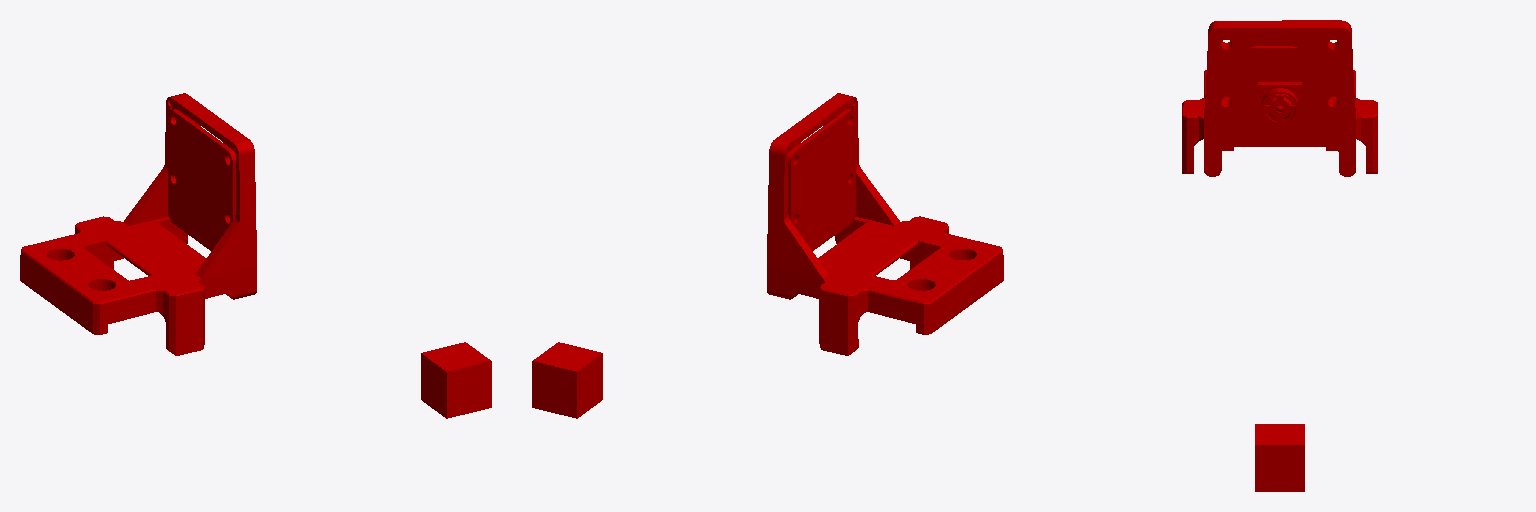
URDF robot description (open_manipulator):
<?xml version="1.0" ?>
<!-- =================================================================================== -->
<!-- |    This document was autogenerated by xacro from [local-path]/catkin_ws/src/open_manipulator/open_manipulator_description/urdf/open_manipulator_robot.urdf.xacro | -->
<!-- |    EDITING THIS FILE BY HAND IS NOT RECOMMENDED                                 | -->
<!-- =================================================================================== -->
<!-- Open_Manipulator Chain -->
<robot name="open_manipulator">
    <material name="black">
        <color rgba="0.0 0.0 0.0 1.0" />
    </material>
    <material name="white">
        <color rgba="1.0 1.0 1.0 1.0" />
    </material>
    <material name="red">
        <color rgba="0.8 0.0 0.0 1.0" />
    </material>
    <material name="blue">
        <color rgba="0.0 0.0 0.8 1.0" />
    </material>
    <material name="green">
        <color rgba="0.0 0.8 0.0 1.0" />
    </material>
    <material name="grey">
        <color rgba="0.5 0.5 0.5 1.0" />
    </material>
    <material name="orange">
        <color rgba="1.0 0.4235294117647059 0.0392156862745098 1.0" />
    </material>
    <material name="brown">
        <color rgba="0.8705882352941177 0.8117647058823529 0.7647058823529411 1.0" />
    </material>
    <!-- World -->
    <gazebo reference="world">
        <plugin name="gazebo_ros_control" filename="libgazebo_ros_control.so">
            <robotNamespace>/</robotNamespace>
        </plugin>
    </gazebo>
    <!-- Link1 -->
    <RefLink ref="link1" />
    <!-- Link2 -->
    <RefLink ref="link2" />
    <!-- Link3 -->
    <RefLink ref="link3" />
    <!-- Link4 -->
    <RefLink ref="link4" />
    <!-- Link5 -->
    <RefLink ref="link5" />
    <!-- gripper_link -->
    <RefLink ref="gripper_link" />
    <!-- gripper_link_sub -->
    <RefLink ref="gripper_link_sub" />
    <!-- end effector link -->
    <gazebo reference="end_effector_link">
        <material>Gazebo/Red</material>
    </gazebo>
    <!-- ros_control plugin -->
    <gazebo>
        <plugin filename="libgazebo_ros_control.so" name="gazebo_ros_control">
            <controlPeriod>0.001</controlPeriod>
            <robotSimType>gazebo_ros_control/DefaultRobotHWSim</robotSimType>
            <legacyModeNS>true</legacyModeNS>
        </plugin>
    </gazebo>
    <gazebo>
        <!-- loading plugin: mimic joints works in gazebo now -->
        <plugin filename="libroboticsgroup_gazebo_mimic_joint_plugin.so" name="gazebo_gripper_ros_control">
            <joint>gripper</joint>
            <mimicJoint>gripper_sub</mimicJoint>
            <multiplier>1.0</multiplier>
            <offset>0.0</offset>
        </plugin>
    </gazebo>
    <!-- camera -->
    <gazebo reference="camera_link">
        <sensor name="intel_realsense_r200" type="camera">
            <update_rate>30.0</update_rate>
            <camera name="head">
                <horizontal_fov>1.02974</horizontal_fov>
                <image>
                    <width>1920</width>
                    <height>1080</height>
                    <format>R8G8B8</format>
                </image>
                <clip>
                    <near>0.02</near>
                    <far>300</far>
                </clip>
                <noise>
                    <type>gaussian</type>
                    <!-- Noise is sampled independently per pixel on each frame.
               That pixel's noise value is added to each of its color
               channels, which at that point lie in the range [0,1]. -->
                    <mean>0.0</mean>
                    <stddev>0.007</stddev>
                </noise>
            </camera>
            <plugin filename="libgazebo_ros_camera.so" name="camera_controller">
                <alwaysOn>true</alwaysOn>
                <updateRate>0.0</updateRate>
                <cameraName>camera/color</cameraName>
                <imageTopicName>image_raw</imageTopicName>
                <cameraInfoTopicName>camera_info</cameraInfoTopicName>
                <frameName>camera_link</frameName>
                <hackBaseline>0.07</hackBaseline>
                <distortionK1>0.0</distortionK1>
                <distortionK2>0.0</distortionK2>
                <distortionK3>0.0</distortionK3>
                <distortionT1>0.0</distortionT1>
                <distortionT2>0.0</distortionT2>
            </plugin>
        </sensor>
    </gazebo>
    <transmission name="tran1">
        <type>transmission_interface/SimpleTransmission</type>
        <joint name="joint1">
            <hardwareInterface>hardware_interface/PositionJointInterface</hardwareInterface>
        </joint>
        <actuator name="motor1">
            <mechanicalReduction>1</mechanicalReduction>
            <hardwareInterface>hardware_interface/EffortJointInterface</hardwareInterface>
        </actuator>
    </transmission>
    <transmission name="tran2">
        <type>transmission_interface/SimpleTransmission</type>
        <joint name="joint2">
            <hardwareInterface>hardware_interface/PositionJointInterface</hardwareInterface>
        </joint>
        <actuator name="motor2">
            <mechanicalReduction>1</mechanicalReduction>
            <hardwareInterface>hardware_interface/EffortJointInterface</hardwareInterface>
        </actuator>
    </transmission>
    <transmission name="tran3">
        <type>transmission_interface/SimpleTransmission</type>
        <joint name="joint3">
            <hardwareInterface>hardware_interface/PositionJointInterface</hardwareInterface>
        </joint>
        <actuator name="motor3">
            <mechanicalReduction>1</mechanicalReduction>
            <hardwareInterface>hardware_interface/EffortJointInterface</hardwareInterface>
        </actuator>
    </transmission>
    <transmission name="tran4">
        <type>transmission_interface/SimpleTransmission</type>
        <joint name="joint4">
            <hardwareInterface>hardware_interface/PositionJointInterface</hardwareInterface>
        </joint>
        <actuator name="motor4">
            <mechanicalReduction>1</mechanicalReduction>
            <hardwareInterface>hardware_interface/EffortJointInterface</hardwareInterface>
        </actuator>
    </transmission>
    <transmission name="tran5">
        <type>transmission_interface/SimpleTransmission</type>
        <joint name="gripper">
            <hardwareInterface>hardware_interface/EffortJointInterface</hardwareInterface>
        </joint>
        <actuator name="motor5">
            <mechanicalReduction>1</mechanicalReduction>
            <hardwareInterface>hardware_interface/EffortJointInterface</hardwareInterface>
        </actuator>
    </transmission>
    <transmission name="tran6">
        <type>transmission_interface/SimpleTransmission</type>
        <joint name="gripper_sub">
            <hardwareInterface>hardware_interface/EffortJointInterface</hardwareInterface>
        </joint>
        <actuator name="motor6">
            <mechanicalReduction>1</mechanicalReduction>
            <hardwareInterface>hardware_interface/EffortJointInterface</hardwareInterface>
        </actuator>
    </transmission>
    <!-- Link 1 -->
    <link name="link1">
        <visual>
            <origin rpy="0 0 0" xyz="0 0 0" />
            <geometry>
                <mesh filename="package://open_manipulator_description/meshes/chain_link1.stl" scale="0.001 0.001 0.001" />
            </geometry>
            <material name="grey" />
        </visual>
        <collision>
            <origin rpy="0 0 0" xyz="0 0 0" />
            <geometry>
                <mesh filename="package://open_manipulator_description/meshes/chain_link1.stl" scale="0.001 0.001 0.001" />
            </geometry>
        </collision>
        <inertial>
            <origin xyz="3.0876154e-04 0.0000000e+00 -1.2176461e-04" rpy="0 0 0" />
            <mass value="7.9119962e-02" />
            <inertia ixx="1.2505234e-05" ixy="0.0" ixz="-1.7855208e-07" iyy="2.1898364e-05" iyz="0.0" izz="1.9267361e-05" />
        </inertial>
    </link>
    <!-- Joint 1 -->
    <joint name="joint1" type="revolute">
        <parent link="link1" />
        <child link="link2" />
        <origin rpy="0 0 0" xyz="0.012 0.0 0.017" />
        <axis xyz="0 0 1" />
        <limit effort="1" lower="-2.827433388230814" upper="2.827433388230814" velocity="4.8" />
    </joint>
    <!--  Link 2 -->
    <link name="link2">
        <visual>
            <origin rpy="0 0 0" xyz="0 0 0.019" />
            <geometry>
                <mesh filename="package://open_manipulator_description/meshes/chain_link2.stl" scale="0.001 0.001 0.001" />
            </geometry>
            <material name="grey" />
        </visual>
        <collision>
            <origin rpy="0 0 0" xyz="0 0 0.019" />
            <geometry>
                <mesh filename="package://open_manipulator_description/meshes/chain_link2.stl" scale="0.001 0.001 0.001" />
            </geometry>
        </collision>
        <inertial>
            <origin xyz="-3.0184870e-04 5.4043684e-04 0.047433463999999995" rpy="0 0 0" />
            <mass value="9.8406837e-02" />
            <inertia ixx="3.4543422e-05" ixy="-1.6031095e-08" ixz="-3.8375155e-07" iyy="3.2689329e-05" iyz="2.8511935e-08" izz="1.8850320e-05" />
        </inertial>
    </link>
    <!--  Joint 2 -->
    <joint name="joint2" type="revolute">
        <parent link="link2" />
        <child link="link3" />
        <origin rpy="0 0 0" xyz="0.0 0.0 0.0595" />
        <axis xyz="0 1 0" />
        <limit effort="1" lower="-1.790707812546182" upper="1.5707963267948966" velocity="4.8" />
    </joint>
    <!--  Link 3 -->
    <link name="link3">
        <visual>
            <origin rpy="0 0 0" xyz="0 0 0" />
            <geometry>
                <mesh filename="package://open_manipulator_description/meshes/chain_link3.stl" scale="0.001 0.001 0.001" />
            </geometry>
            <material name="grey" />
        </visual>
        <collision>
            <origin rpy="0 0 0" xyz="0 0 0" />
            <geometry>
                <mesh filename="package://open_manipulator_description/meshes/chain_link3.stl" scale="0.001 0.001 0.001" />
            </geometry>
        </collision>
        <inertial>
            <origin xyz="1.0308393e-02 3.7743363e-04 1.0170197e-01" rpy="0 0 0" />
            <mass value="1.3850917e-01" />
            <inertia ixx="3.3055381e-04" ixy="-9.7940978e-08" ixz="-3.8505711e-05" iyy="3.4290447e-04" iyz="-1.5717516e-06" izz="6.0346498e-05" />
        </inertial>
    </link>
    <!--  Joint 3 -->
    <joint name="joint3" type="revolute">
        <parent link="link3" />
        <child link="link4" />
        <origin rpy="0 0 0" xyz="0.024 0 0.128" />
        <axis xyz="0 1 0" />
        <limit effort="1" lower="-0.9424777960769379" upper="1.382300767579509" velocity="4.8" />
    </joint>
    <!--  Link 4 -->
    <link name="link4">
        <visual>
            <origin rpy="0 0 0" xyz="0 0 0" />
            <geometry>
                <mesh filename="package://open_manipulator_description/meshes/chain_link4.stl" scale="0.001 0.001 0.001" />
            </geometry>
            <material name="grey" />
        </visual>
        <collision>
            <origin rpy="0 0 0" xyz="0 0 0" />
            <geometry>
                <mesh filename="package://open_manipulator_description/meshes/chain_link4.stl" scale="0.001 0.001 0.001" />
            </geometry>
        </collision>
        <inertial>
            <origin xyz="9.0909590e-02 3.8929816e-04 2.2413279e-04" rpy="0 0 0" />
            <mass value="1.3274562e-01" />
            <inertia ixx="3.0654178e-05" ixy="-1.2764155e-06" ixz="-2.6874417e-07" iyy="2.4230292e-04" iyz="1.1559550e-08" izz="2.5155057e-04" />
        </inertial>
    </link>
    <!--  Joint 4 -->
    <joint name="joint4" type="revolute">
        <parent link="link4" />
        <child link="link5" />
        <origin rpy="0 0 0" xyz="0.124 0.0 0.0" />
        <axis xyz="0 1 0" />
        <limit effort="1" lower="-1.790707812546182" upper="2.0420352248333655" velocity="4.8" />
    </joint>
    <!--  Link 5 -->
    <link name="link5">
        <visual>
            <origin rpy="0 0 0" xyz="0 0 0" />
            <geometry>
                <mesh filename="package://open_manipulator_description/meshes/chain_link5.stl" scale="0.001 0.001 0.001" />
            </geometry>
            <material name="grey" />
        </visual>
        <collision>
            <origin rpy="0 0 0" xyz="0 0 0" />
            <geometry>
                <mesh filename="package://open_manipulator_description/meshes/chain_link5.stl" scale="0.001 0.001 0.001" />
            </geometry>
        </collision>
        <inertial>
            <origin xyz="4.4206755e-02 3.6839985e-07 8.9142216e-03" rpy="0 0 0" />
            <mass value="1.4327573e-01" />
            <inertia ixx="8.0870749e-05" ixy="0.0" ixz="-1.0157896e-06" iyy="7.5980465e-05" iyz="0.0" izz="9.3127351e-05" />
        </inertial>
    </link>
    <!--  Gripper joint -->
    <joint name="gripper" type="prismatic">
        <parent link="link5" />
        <child link="gripper_link" />
        <origin rpy="0 0 0" xyz="0.0817 0.021 0.0" />
        <axis xyz="0 1 0" />
        <limit effort="1" lower="-0.010" upper="0.019" velocity="4.8" />
    </joint>
    <!--  Gripper link -->
    <link name="gripper_link">
        <visual>
            <origin rpy="0 0 0" xyz="0.0 0.0 0" />
            <geometry>
                <mesh filename="package://open_manipulator_description/meshes/chain_link_grip_l.stl" scale="0.001 0.001 0.001" />
            </geometry>
            <material name="grey" />
        </visual>
        <collision>
            <origin rpy="0 0 0" xyz="0.0 0.0 0" />
            <geometry>
                <mesh filename="package://open_manipulator_description/meshes/chain_link_grip_l.stl" scale="0.001 0.001 0.001" />
            </geometry>
        </collision>
        <inertial>
            <origin xyz="0 0 0" rpy="0 0 0" />
            <mass value="1.0e-03" />
            <inertia ixx="1.0e-03" ixy="0.0" ixz="0.0" iyy="1.0e-03" iyz="0.0" izz="1.0e-03" />
        </inertial>
    </link>
    <!--  Gripper joint sub -->
    <joint name="gripper_sub" type="prismatic">
        <parent link="link5" />
        <child link="gripper_link_sub" />
        <origin rpy="0 0 0" xyz="0.0817 -0.021 0" />
        <axis xyz="0 -1 0" />
        <limit effort="1" lower="-0.010" upper="0.019" velocity="4.8" />
        <mimic joint="gripper" multiplier="1" />
    </joint>
    <!--  Gripper link sub -->
    <link name="gripper_link_sub">
        <visual>
            <origin rpy="0 0 0" xyz="0.0 -0.0 0" />
            <geometry>
                <mesh filename="package://open_manipulator_description/meshes/chain_link_grip_r.stl" scale="0.001 0.001 0.001" />
            </geometry>
            <material name="grey" />
        </visual>
        <collision>
            <origin rpy="0 0 0" xyz="0.0 -0.0 0" />
            <geometry>
                <mesh filename="package://open_manipulator_description/meshes/chain_link_grip_r.stl" scale="0.001 0.001 0.001" />
            </geometry>
        </collision>
        <inertial>
            <origin xyz="0 0 0" rpy="0 0 0" />
            <mass value="1.0e-03" />
            <inertia ixx="1.0e-03" ixy="0.0" ixz="0.0" iyy="1.0e-03" iyz="0.0" izz="1.0e-03" />
        </inertial>
    </link>
    <!-- end effector joint -->
    <joint name="end_effector_joint" type="fixed">
        <origin rpy="0 0 0" xyz="0.126 0.0 0.0" />
        <parent link="link5" />
        <child link="end_effector_link" />
    </joint>
    <!-- end effector link -->
    <link name="end_effector_link">
        <visual>
            <origin rpy="0 0 0" xyz="0 0 0" />
            <geometry>
                <box size="0.01 0.01 0.01" />
            </geometry>
            <material name="red" />
        </visual>
        <inertial>
            <origin xyz="0 0 0" />
            <mass value="1.0e-03" />
            <inertia ixx="1.0e-03" ixy="0.0" ixz="0.0" iyy="1.0e-03" iyz="0.0" izz="1.0e-03" />
        </inertial>
    </link>
    <!-- Realsense Camera Joint Position -->
    <joint name="camera_joint" type="fixed">
        <axis xyz="0 1 0" />
        <origin rpy="0 0 0" xyz="0.070 0 0.043" />
        <parent link="link5" />
        <child link="camera_link" />
    </joint>
    <link name="camera_link">
        <visual>
            <origin rpy="1.57 0 -1.57" xyz="0.0 0.0 0" />
            <geometry>
                <mesh filename="package://open_manipulator_description/meshes/asm cam v1.stl" scale="0.001 0.001 0.001" />
            </geometry>
            <material name="red" />
        </visual>
        <collision>
            <origin rpy="0 0 0" xyz="0.0 0.0 0" />
            <geometry>
                <mesh filename="package://open_manipulator_description/meshes/asm cam v1.stl" scale="0.001 0.001 0.001" />
            </geometry>
        </collision>
        <inertial>
            <origin xyz="0 0 0" rpy="0 0 0" />
            <mass value="1.0e-03" />
            <inertia ixx="1.0e-03" ixy="0.0" ixz="0.0" iyy="1.0e-03" iyz="0.0" izz="1.0e-03" />
        </inertial>
    </link>
    <!-- World -->
    <link name="world" />
    <!-- World fixed joint-->
    <joint name="world_fixed" type="fixed">
        <origin rpy="0 0 0" xyz="0 0 0" />
        <parent link="world" />
        <child link="link1" />
    </joint>
</robot>

--- What the picture shows (computed from the rendered views, not written in the file) ---
The picture shows the robot from 3 angles, left to right: view 1: azimuth 30°, elevation 25°; view 2: azimuth 150°, elevation 25°; view 3: azimuth 270°, elevation 25°; orthographic projection.
Robot: open_manipulator — 10 links, 9 joints (4 revolute, 2 prismatic, 3 fixed); root link world; default pose: every joint at zero.
Links seen in each view (by area): view 1: camera_link, end_effector_link; view 2: camera_link, end_effector_link; view 3: camera_link, end_effector_link.
Link boxes in pixels (bbox=[...]): camera_link: bbox=[20, 93, 256, 355]; end_effector_link: bbox=[421, 342, 491, 418]; camera_link: bbox=[767, 93, 1003, 355]; end_effector_link: bbox=[532, 342, 602, 418]; camera_link: bbox=[1182, 20, 1377, 176]; end_effector_link: bbox=[1255, 424, 1304, 491].
Size in the robot's own frame: 0.094 by 0.0386 by 0.0735 metres.
1 mesh visuals loaded from 8 distinct referenced files (1 binary STL); not drawn: 7 (reference not matched to a file when rendering).